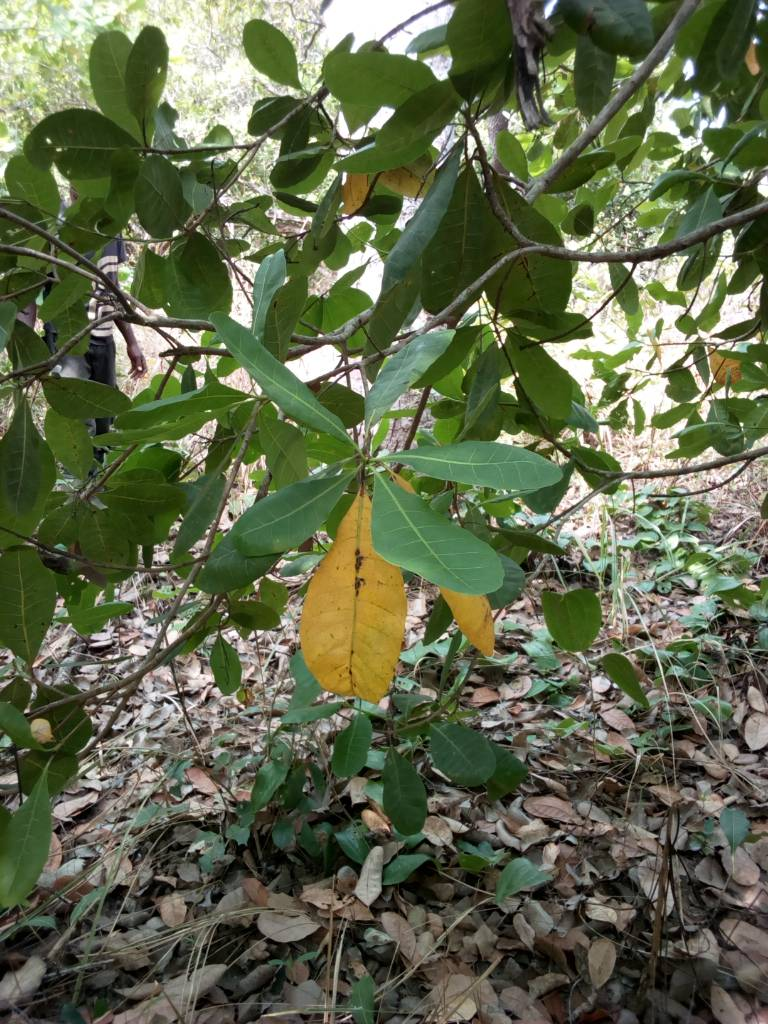Anthracnose: (297, 486, 410, 705)
